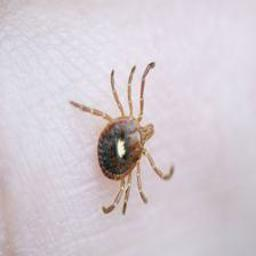Ixodes scapularis: (67, 61, 176, 216)
